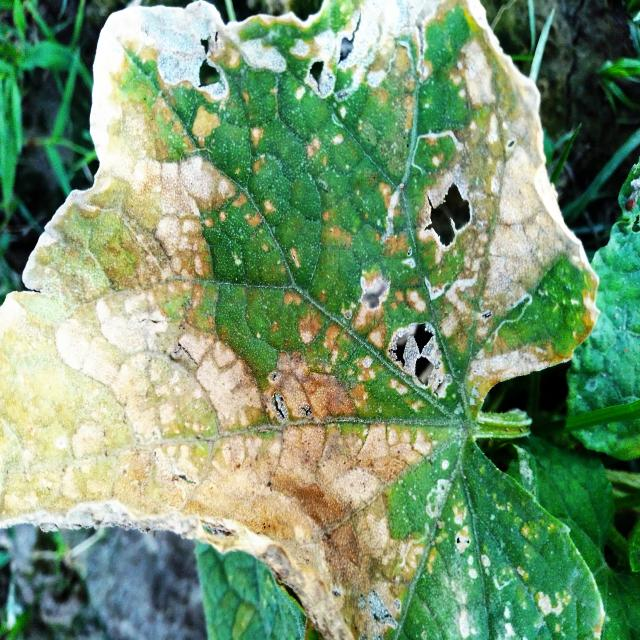Anthracnose: (382, 316, 451, 404), (302, 11, 367, 96), (420, 170, 477, 252), (192, 32, 232, 98)
